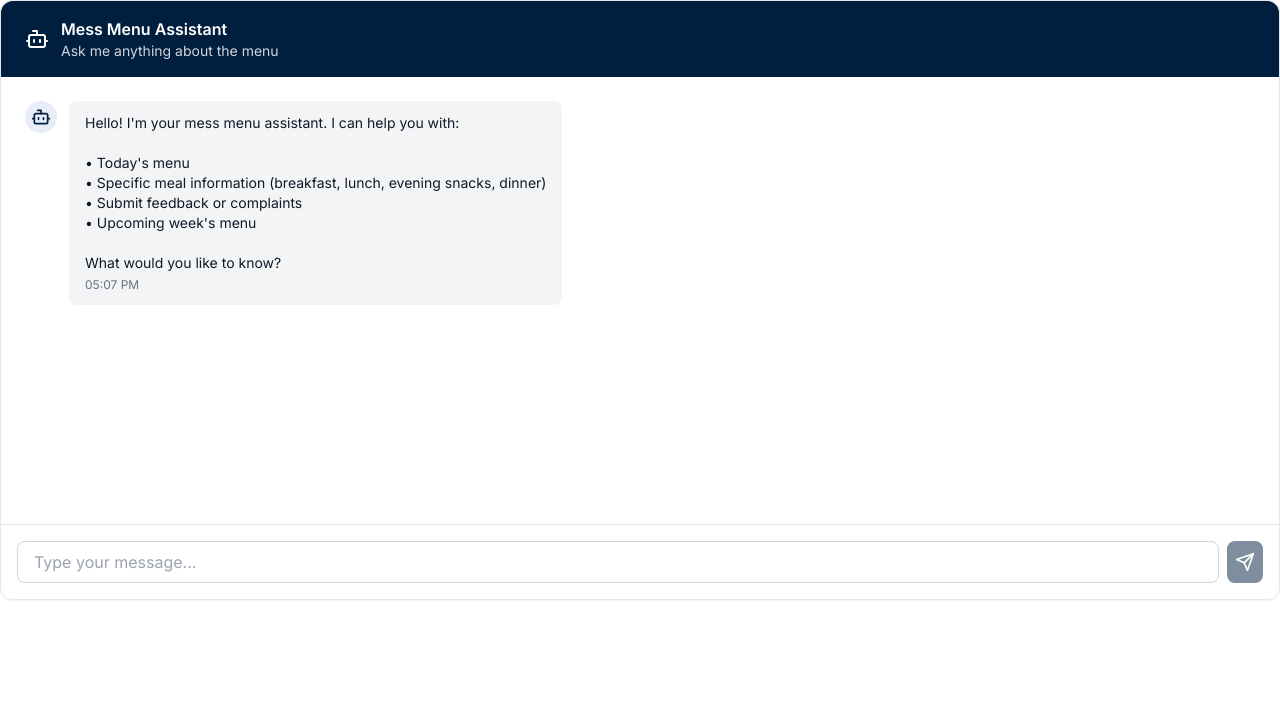
Test: Chatbot › uses Gemini response when API succeeds
Type "Tell me something nice" into the field with placeholder "Type your message..." at [618, 562], box left=17, top=541, right=1219, bottom=583
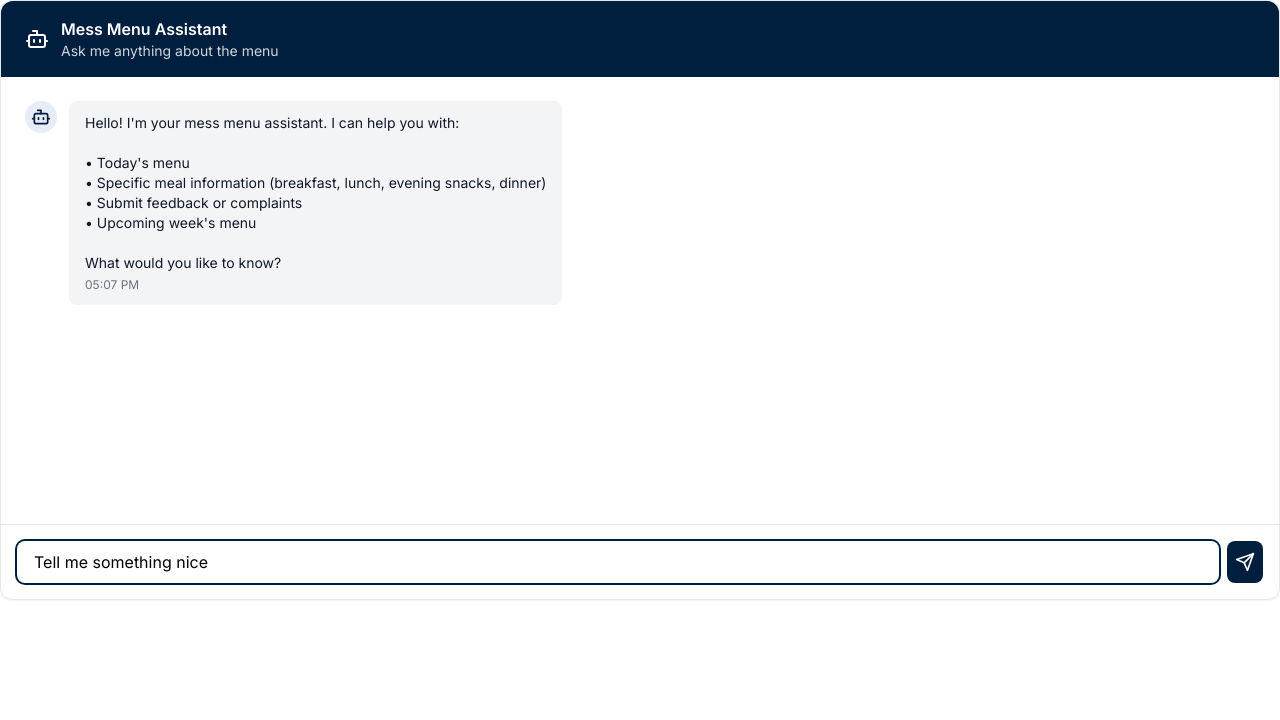
Click the button at [1245, 562], box left=1227, top=541, right=1263, bottom=583
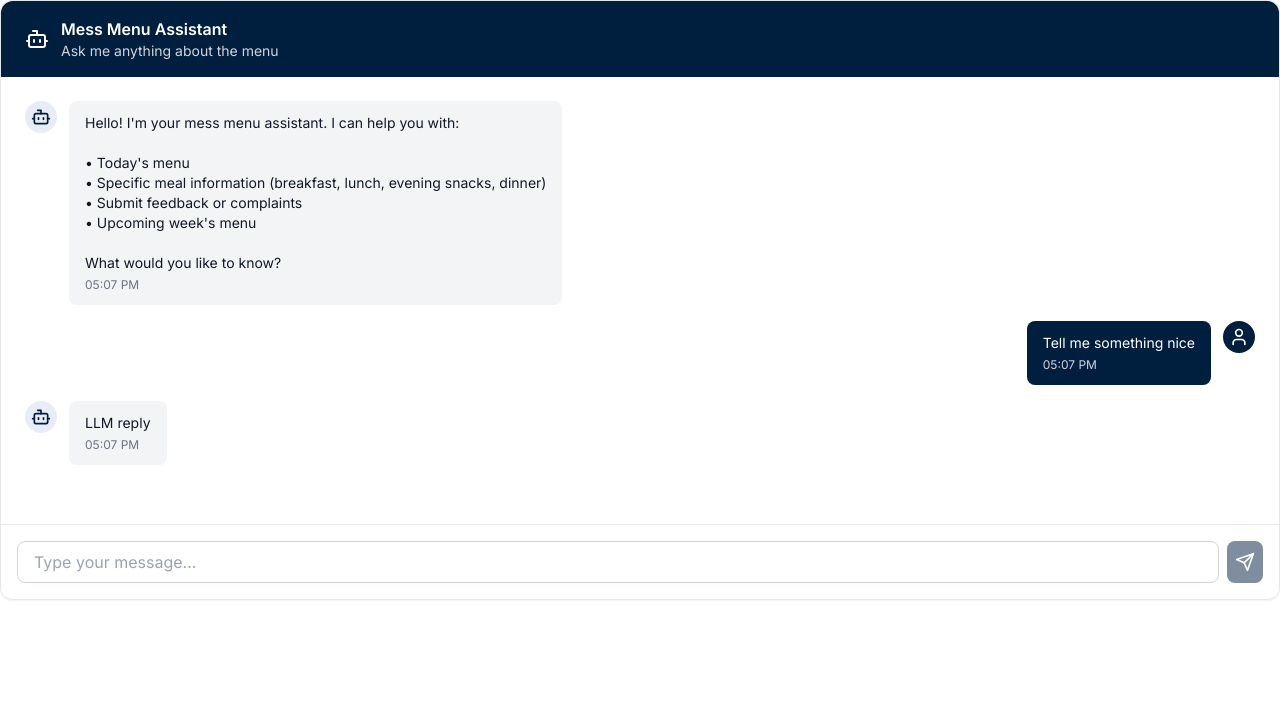
Expected: the text "LLM reply" is shown, left=85, top=413, right=150, bottom=433
